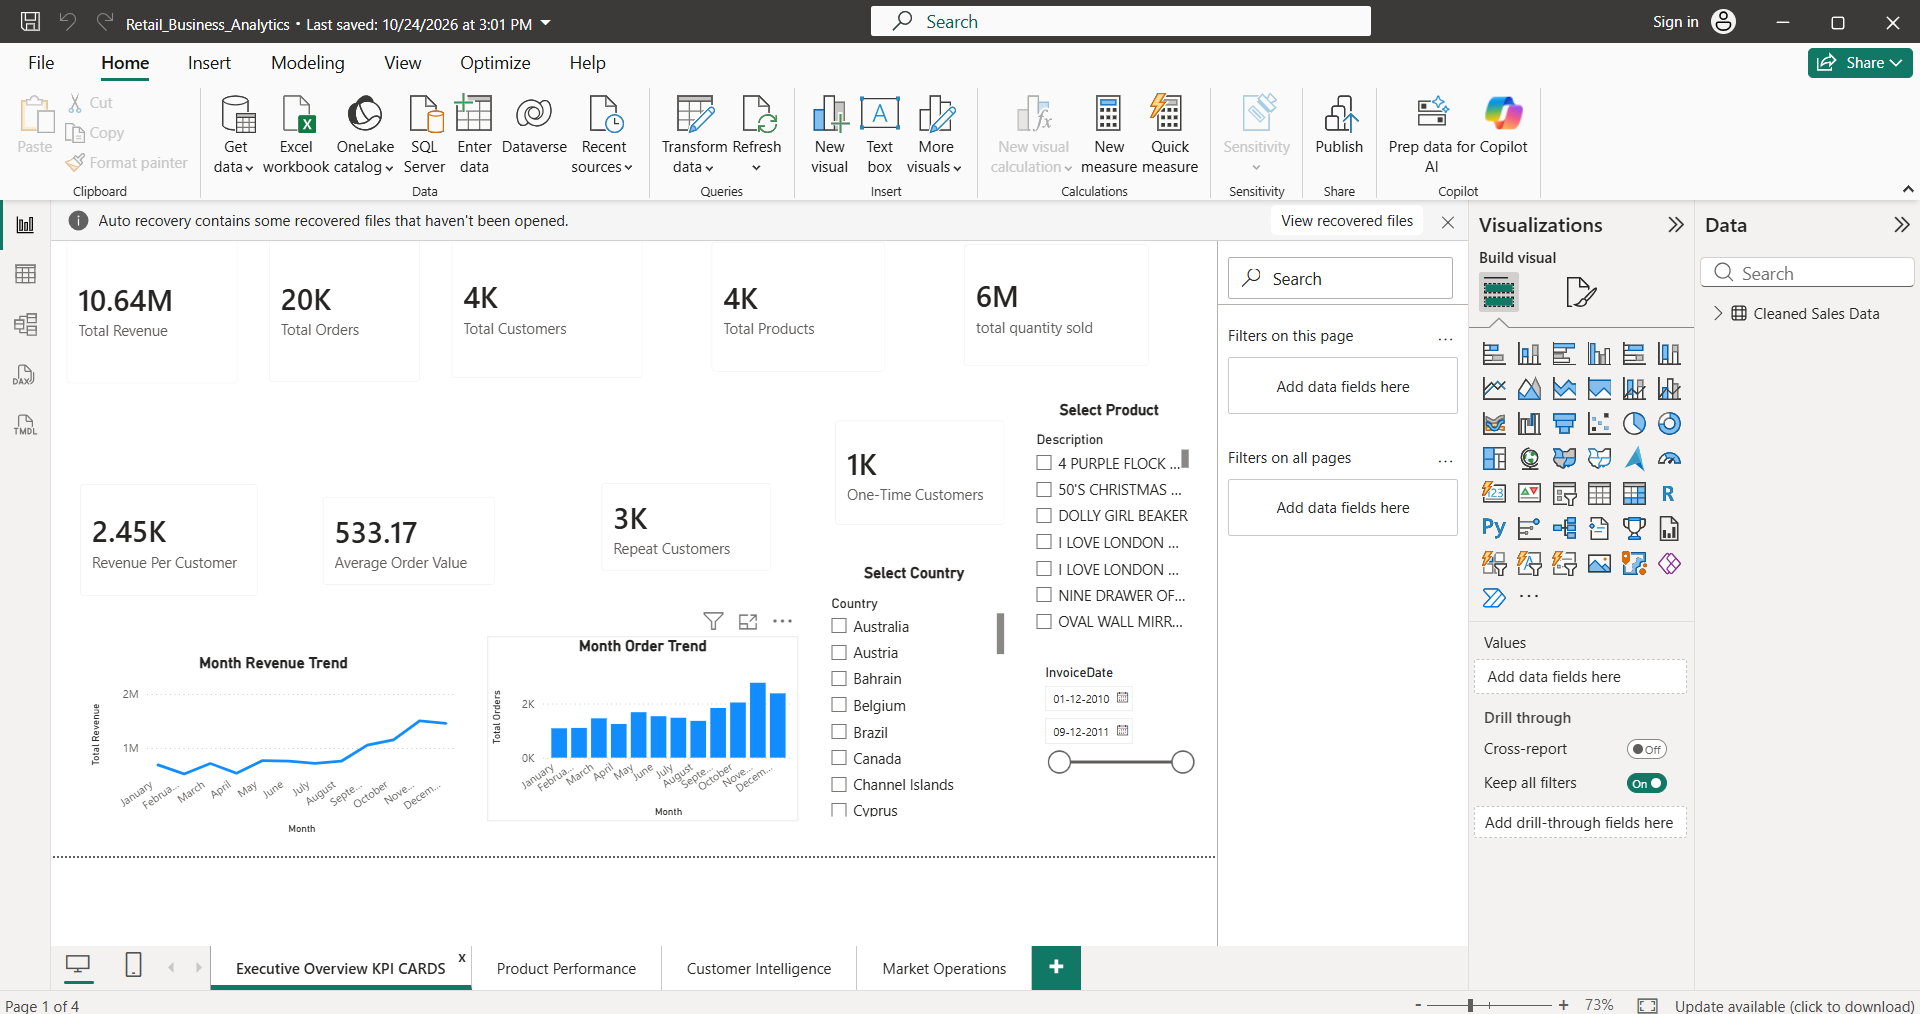

This screenshot's page, from the dashboard's own definition file:
{"tool":"powerbi","page":{"name":"Executive Overview KPI CARDS","canvas":[1280,720],"ordinal":0},"visuals":[{"type":"cardVisual","fields":{"Data":["Cleaned Sales Data.Total Revenue"]},"box":[0,20.6,222.3,199],"z":0},{"type":"cardVisual","fields":{"Data":["Cleaned Sales Data.Total Orders"]},"box":[222.3,19.2,200.3,199],"z":1000},{"type":"cardVisual","fields":{"Data":["Cleaned Sales Data.Total Customers"]},"box":[422.6,20.6,244.3,192.1],"z":2000},{"type":"cardVisual","fields":{"Data":["Cleaned Sales Data.Total Products"]},"box":[708.1,28.8,225,177],"z":3000},{"type":"cardVisual","fields":{"Data":["Cleaned Sales Data.Average Order Value"]},"box":[281.3,308.7,223.7,131.7],"z":4000},{"type":"cardVisual","fields":{"Data":["Cleaned Sales Data.Revenue Per Customer"]},"box":[15.1,295,229.2,157.8],"z":5000},{"type":"cardVisual","fields":{"Data":["Cleaned Sales Data.total quantity sold"]},"box":[985.3,31.6,237.4,168.8],"z":6000},{"type":"cardVisual","fields":{"Data":["Cleaned Sales Data.Repeat Customers"]},"box":[587.3,293.7,220.9,131.7],"z":7000},{"type":"cardVisual","fields":{"Data":["Cleaned Sales Data.One-Time Customers"]},"box":[843.9,225,220.9,149.6],"z":8000},{"type":"lineChart","title":"Month Revenue Trend","fields":{"Category":["Cleaned Sales Data.Month.Variation.Date Hierarchy.Month"],"Y":["Cleaned Sales Data.Total Revenue"]},"box":[38.4,498.1,411.7,203.1],"z":9000},{"type":"clusteredColumnChart","title":"Month Order Trend","fields":{"Category":["Cleaned Sales Data.Month.Variation.Date Hierarchy.Month"],"Y":["Cleaned Sales Data.Total Orders"]},"box":[478.9,478.9,341.7,203.1],"z":10000},{"type":"slicer","title":"Select Country","fields":{"Values":["Cleaned Sales Data.Country"]},"box":[843.9,399.3,207.2,282.7],"z":11000},{"type":"slicer","title":"Select Product","fields":{"Values":["Cleaned Sales Data.Description"]},"box":[1069,219.6,185.2,266.2],"z":12000},{"type":"slicer","fields":{"Values":["Cleaned Sales Data.InvoiceDate"]},"box":[1078.6,505,185,196],"z":13000}]}

Visuals, with their boxes on the page's 1280x720 design canvas (x1, y1, x2, y2). These are canvas units, not pixel positions in the 1920x1014 screenshot, which may show the page scaled, cropped or inside an application window:
cardVisual - Cleaned Sales Data.Total Revenue: bbox(0, 21, 222, 220)
cardVisual - Cleaned Sales Data.Total Orders: bbox(222, 19, 423, 218)
cardVisual - Cleaned Sales Data.Total Customers: bbox(423, 21, 667, 213)
cardVisual - Cleaned Sales Data.Total Products: bbox(708, 29, 933, 206)
cardVisual - Cleaned Sales Data.Average Order Value: bbox(281, 309, 505, 440)
cardVisual - Cleaned Sales Data.Revenue Per Customer: bbox(15, 295, 244, 453)
cardVisual - Cleaned Sales Data.total quantity sold: bbox(985, 32, 1223, 200)
cardVisual - Cleaned Sales Data.Repeat Customers: bbox(587, 294, 808, 425)
cardVisual - Cleaned Sales Data.One-Time Customers: bbox(844, 225, 1065, 375)
"Month Revenue Trend" lineChart: bbox(38, 498, 450, 701)
"Month Order Trend" clusteredColumnChart: bbox(479, 479, 821, 682)
"Select Country" slicer: bbox(844, 399, 1051, 682)
"Select Product" slicer: bbox(1069, 220, 1254, 486)
slicer - Cleaned Sales Data.InvoiceDate: bbox(1079, 505, 1264, 701)
